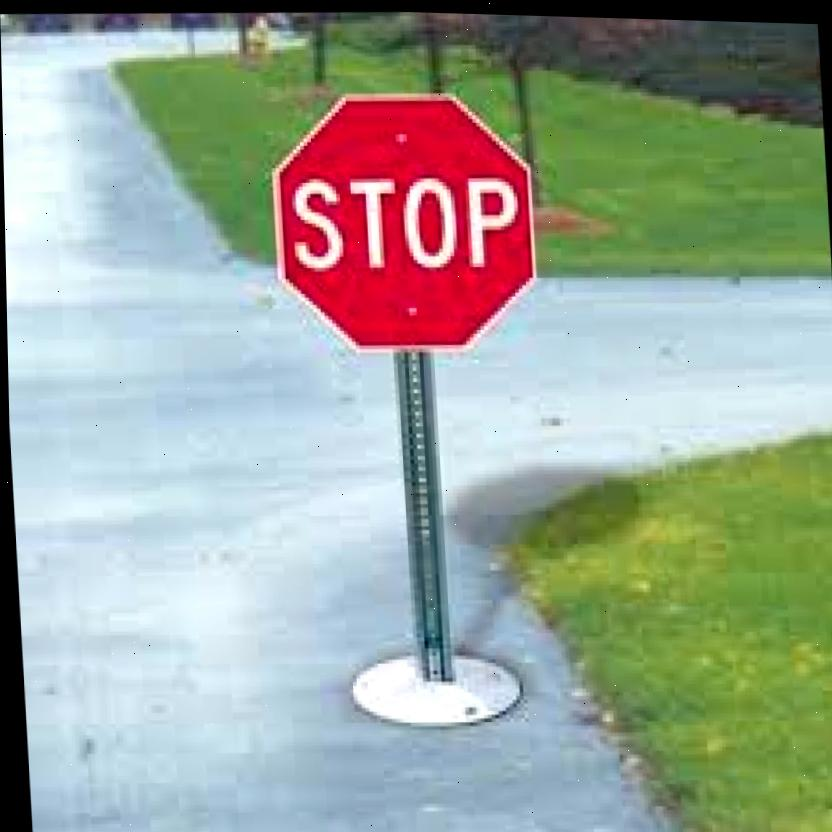Pole: (393, 351, 451, 677)
Sign: (267, 80, 539, 350)
